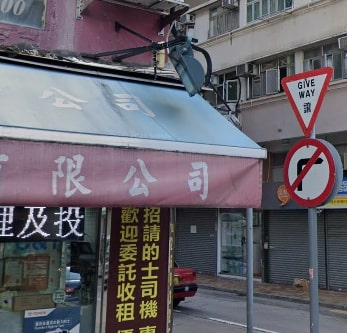Give Way: (281, 68, 340, 134)
No Turn Right: (281, 135, 339, 206)
